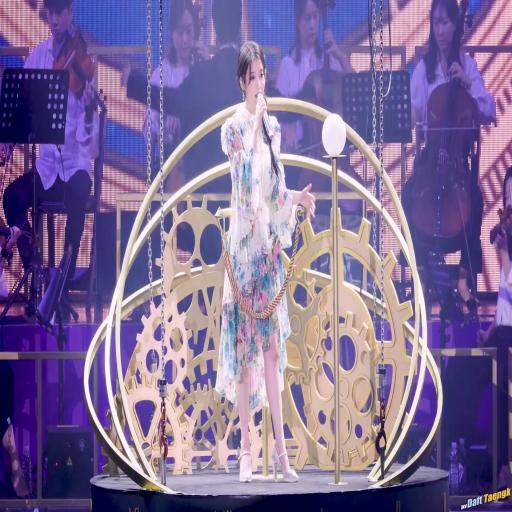IU: (236, 40, 267, 106)
